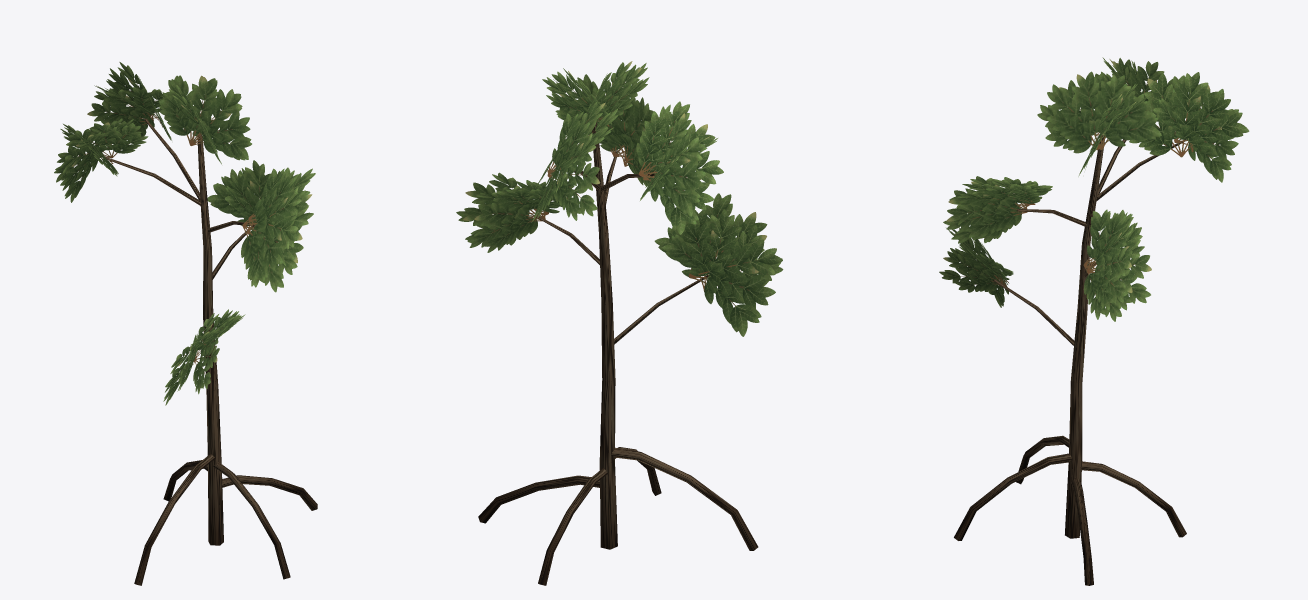
Rendered from sapling_a.glb.
3 views of the same model, side by side, from view 1: azimuth 30°, elevation 25°; view 2: azimuth 150°, elevation 25°; view 3: azimuth 270°, elevation 25° (orthographic). The views are drawn at different scales.
Parts seen in each view (by area): view 1: leaves, wood; view 2: leaves, wood; view 3: leaves, wood.
Part boxes in pixels (<box>): leaves: <box>54,62,315,405</box>; wood: <box>105,118,317,585</box>; leaves: <box>456,61,783,336</box>; wood: <box>478,121,758,585</box>; leaves: <box>939,57,1249,321</box>; wood: <box>954,135,1186,585</box>.
Size of the model in its own units: 1.1 by 1.58 by 1.2.
Materials: 2 (2 with a texture image).
